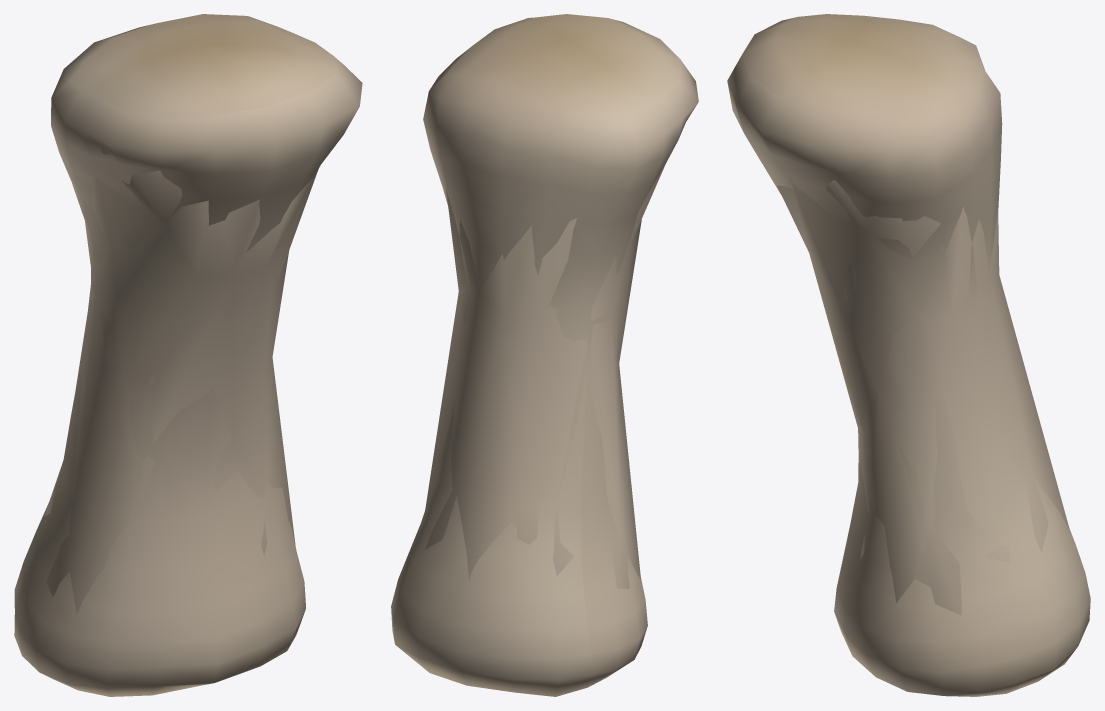
File: vertebrae caudales 13.fbx
3 views of the same model, side by side, from view 1: azimuth 30°, elevation 25°; view 2: azimuth 150°, elevation 25°; view 3: azimuth 270°, elevation 25° (orthographic). The views are drawn at different scales.
Visible parts, largest first — view 1: vertebrae caudales 13, vertebrae caudales 13 low; view 2: vertebrae caudales 13, vertebrae caudales 13 low; view 3: vertebrae caudales 13, vertebrae caudales 13 low.
Part boxes in pixels (x1=…): vertebrae caudales 13: x1=14, y1=14, x2=362, y2=696; vertebrae caudales 13 low: x1=44, y1=146, x2=317, y2=614; vertebrae caudales 13: x1=391, y1=14, x2=698, y2=696; vertebrae caudales 13 low: x1=419, y1=117, x2=687, y2=588; vertebrae caudales 13: x1=727, y1=14, x2=1090, y2=696; vertebrae caudales 13 low: x1=777, y1=179, x2=1069, y2=615.
Size of the model in its own units: 1.09 by 2.63 by 1.41.
Materials: 1 (1 with a texture image).
